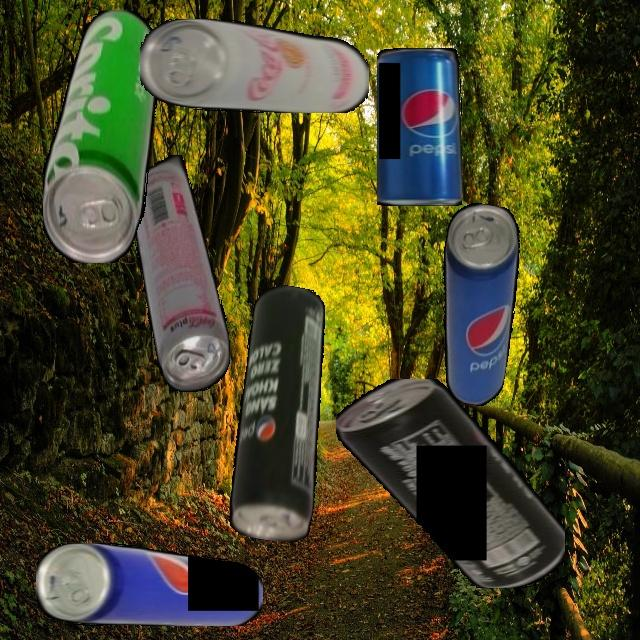debris: (335, 379, 565, 588), (215, 281, 350, 547), (42, 9, 157, 263), (419, 199, 533, 409), (131, 154, 230, 392), (140, 18, 369, 113), (36, 542, 263, 626), (376, 48, 462, 206)
